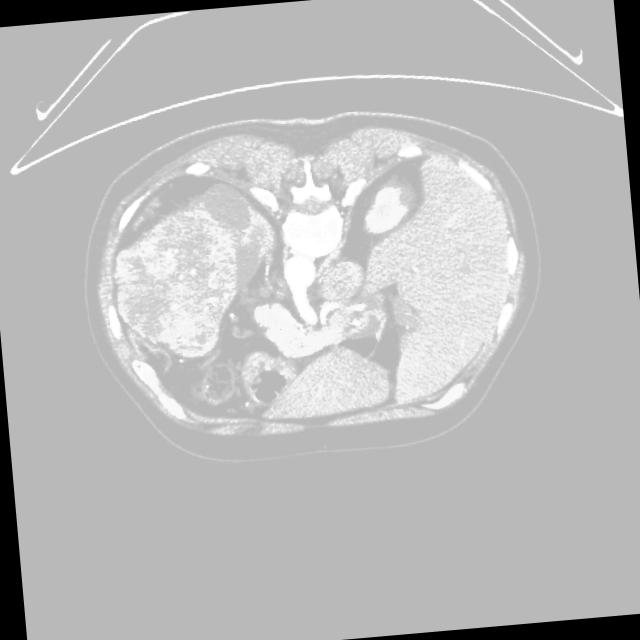TUMOR: (33, 121, 294, 380)
